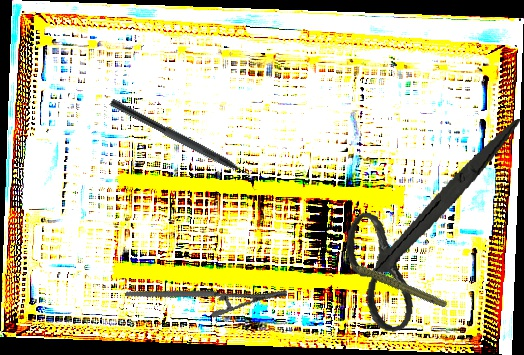Chopper: (103, 98, 265, 193)
Handpiece: (340, 235, 450, 328)
Iris Scissors: (335, 97, 521, 346)
Needle Holder: (124, 240, 289, 346)
